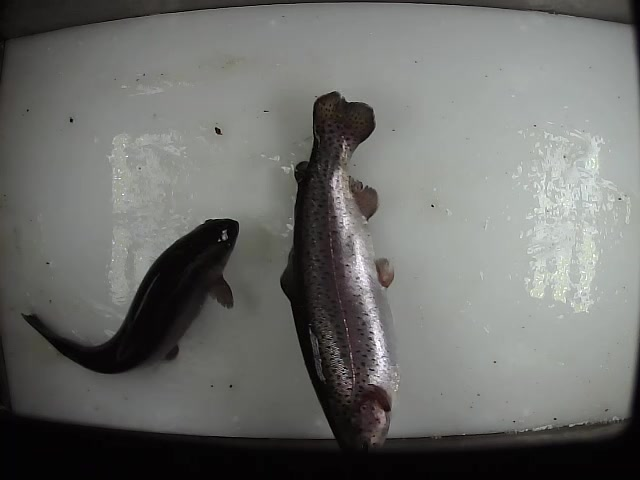fish: (278, 89, 400, 452), (19, 215, 244, 376)
